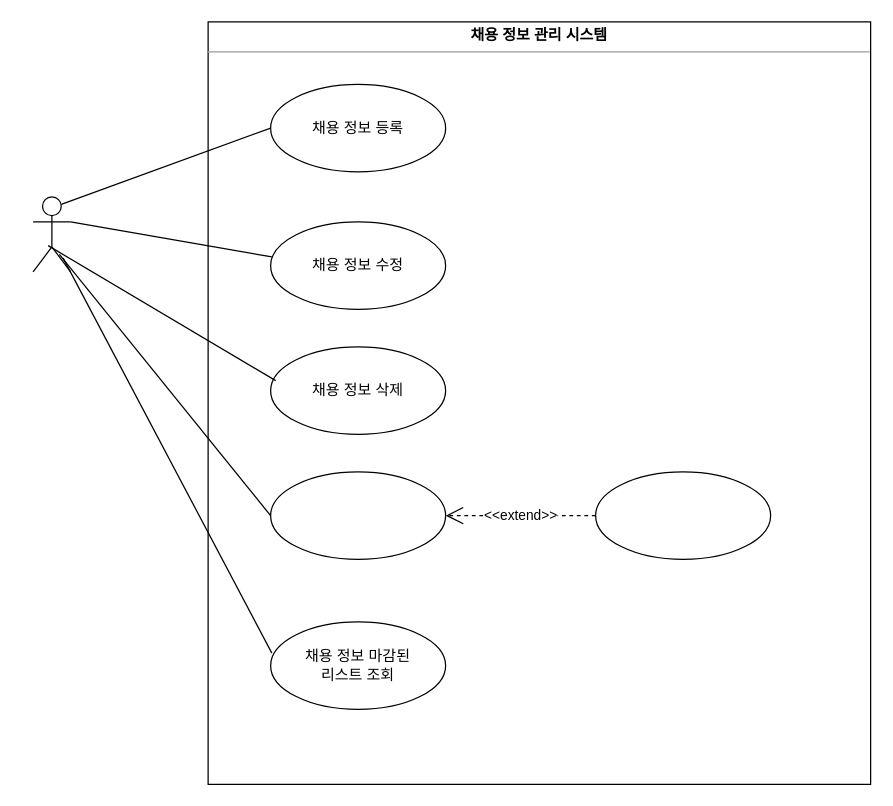
The diagram is 893 pixels wide and 806 high, and some of its shapes have lost their labels. Each missing label, with the centre of its shape:
등록한 채용 정보 리스트 조회: the point at 357,515
채용 조기 마감: the point at 682,515
회사 회원: the point at 51,234
